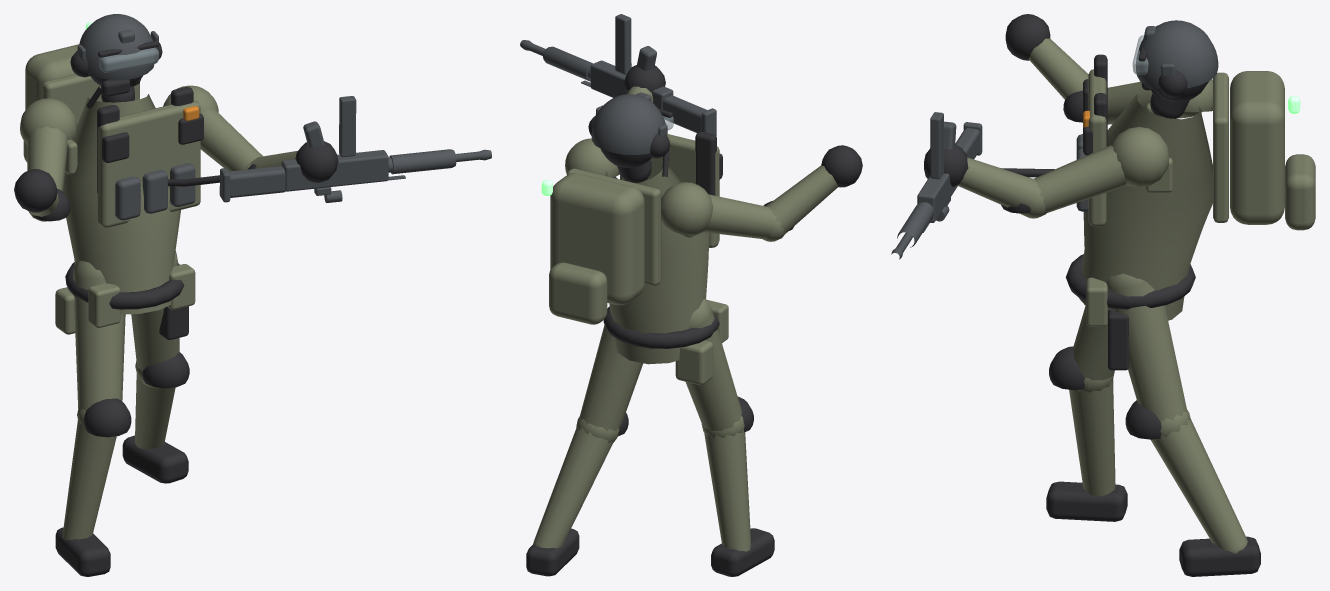
The model's file is battle-royale-town-and-airfield-operator-aiming-rifle-5c76fa65__28249.glb.
3 renders of one model, left to right at view 1: azimuth 30°, elevation 25°; view 2: azimuth 150°, elevation 25°; view 3: azimuth 270°, elevation 25°, orthographic. The views are drawn at different scales.
Parts seen in each view (by area): view 1: operator-aiming-rifle; view 2: operator-aiming-rifle; view 3: operator-aiming-rifle.
Boxes of the visible parts, box(x1,y1,x2,y2) form: operator-aiming-rifle: box(14, 14, 491, 576); operator-aiming-rifle: box(520, 14, 862, 576); operator-aiming-rifle: box(891, 14, 1315, 576).
Size of the model in its own units: 1.51 by 1.74 by 1.26.
